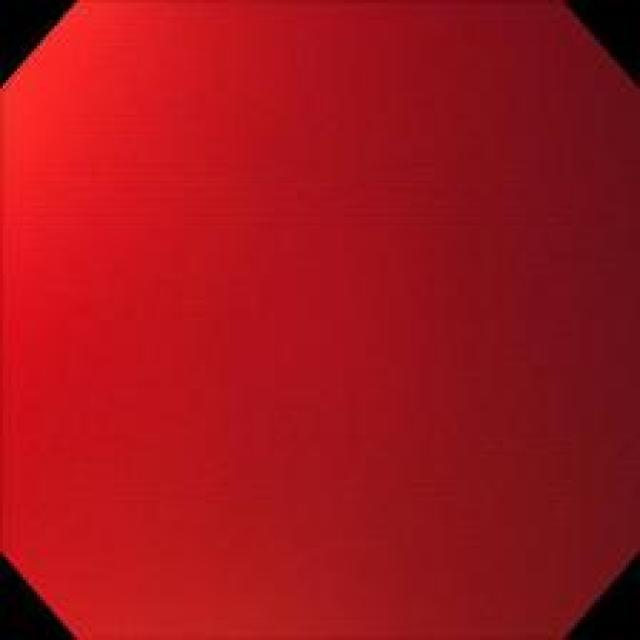color misalignment: (1, 1, 638, 638)
